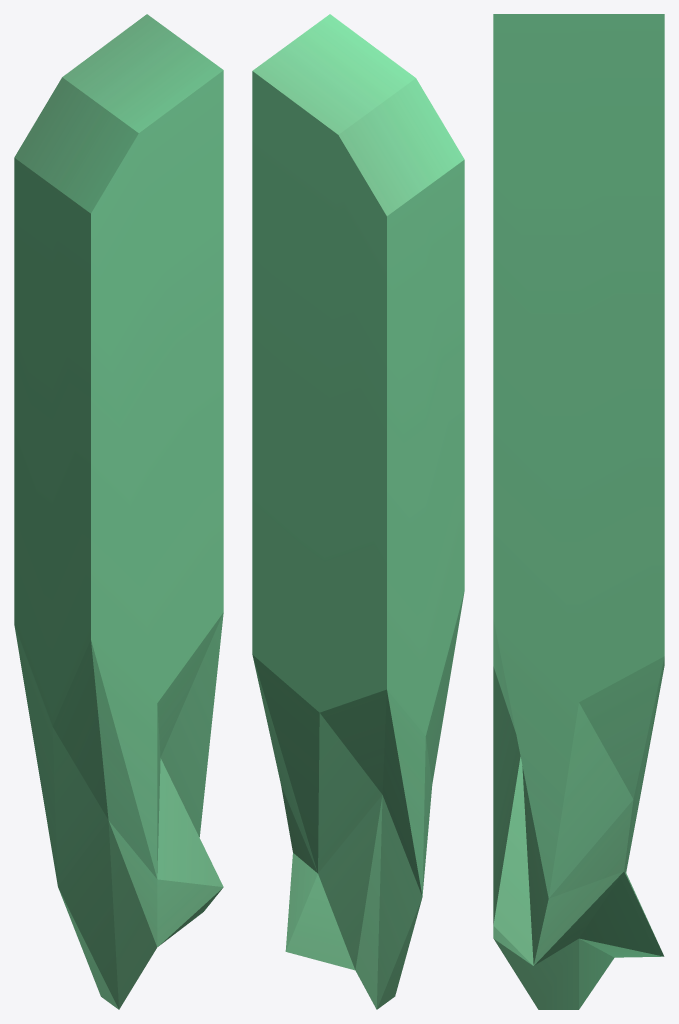
Rendered from block01_BigIncline.fbx.
The picture shows the model from 3 angles, left to right: view 1: azimuth 30°, elevation 25°; view 2: azimuth 150°, elevation 25°; view 3: azimuth 270°, elevation 25°; orthographic projection. The views are drawn at different scales.
Parts seen in each view (by area): view 1: Cube_19; view 2: Cube_19; view 3: Cube_19.
Boxes of the visible parts, x1,y1,x2,y2 form: Cube_19: (14,14,223,1009); Cube_19: (252,14,464,1009); Cube_19: (493,14,664,1009).
Size of the model in its own units: 200 by 1344 by 200.
Materials: 1 (1 with a texture image).
